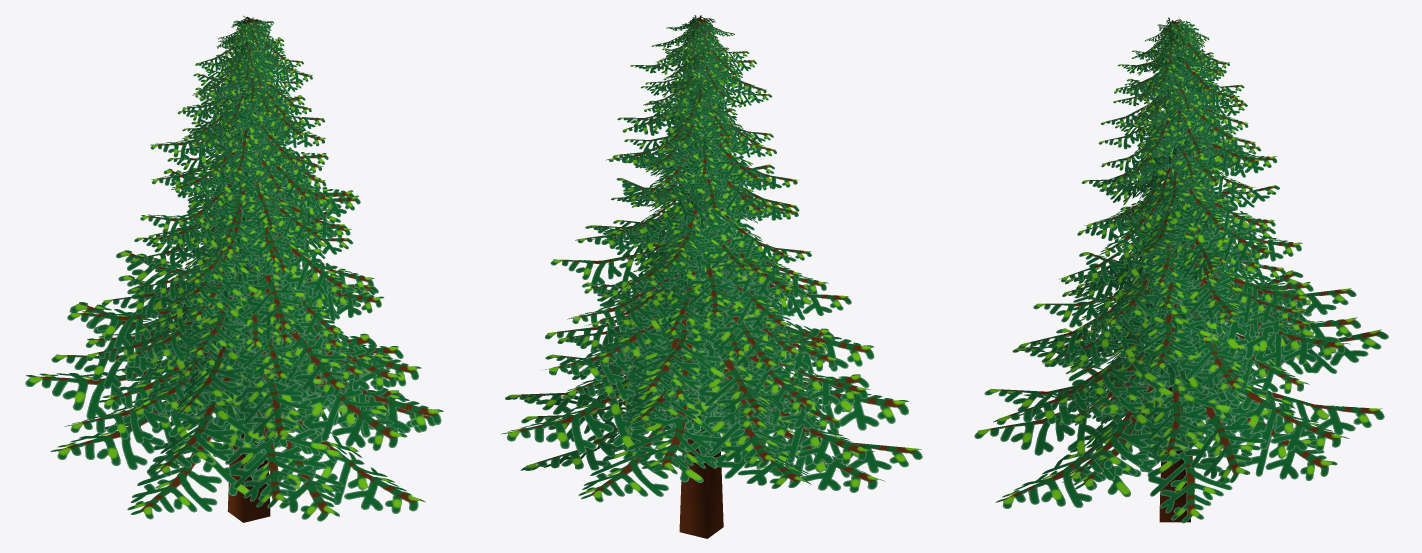
File: pine.fbx
3 renders of one model, left to right at view 1: azimuth 30°, elevation 25°; view 2: azimuth 150°, elevation 25°; view 3: azimuth 270°, elevation 25°, orthographic. The views are drawn at different scales.
Visible parts, largest first — view 1: pineleaves.003, pineleaves.006, pineleaves.093, pineleaves.098, pineleaves.002, pineleaves.092, pineleaves.012, pineleaves.096, pineleaves.102, pineleaves.004, pineleaves.101, pineleaves (+63 smaller); view 2: pineleaves.094, pineleaves.097, pineleaves.007, Cube, pineleaves.103, pineleaves.090, pineleaves.013, pineleaves.108, pineleaves.004, pineleaves, pineleaves.093, pineleaves.096 (+54 smaller); view 3: pineleaves.008, pineleaves.097, pineleaves.091, pineleaves.005, pineleaves.014, pineleaves.002, pineleaves.106, pineleaves.001, pineleaves.113, pineleaves.092, pineleaves.100, pineleaves.109 (+61 smaller).
Part boxes in pixels (x1=…): pineleaves.003: x1=197, y1=386, x2=334, y2=508; pineleaves.006: x1=127, y1=405, x2=304, y2=519; pineleaves.093: x1=149, y1=361, x2=310, y2=476; pineleaves.098: x1=210, y1=353, x2=407, y2=450; pineleaves.002: x1=212, y1=407, x2=425, y2=513; pineleaves.092: x1=182, y1=387, x2=343, y2=521; pineleaves.012: x1=216, y1=315, x2=324, y2=443; pineleaves.096: x1=50, y1=387, x2=267, y2=469; pineleaves.102: x1=174, y1=304, x2=304, y2=416; pineleaves.004: x1=25, y1=360, x2=227, y2=428; pineleaves.101: x1=209, y1=268, x2=349, y2=397; pineleaves: x1=64, y1=367, x2=264, y2=443; pineleaves.094: x1=612, y1=346, x2=770, y2=474; pineleaves.097: x1=500, y1=381, x2=716, y2=453; pineleaves.007: x1=578, y1=396, x2=730, y2=502; Cube: x1=679, y1=19, x2=723, y2=538; pineleaves.103: x1=627, y1=291, x2=753, y2=395; pineleaves.090: x1=649, y1=363, x2=791, y2=468; pineleaves.013: x1=652, y1=328, x2=780, y2=417; pineleaves.108: x1=657, y1=263, x2=780, y2=372; pineleaves.004: x1=636, y1=390, x2=811, y2=488; pineleaves: x1=673, y1=392, x2=874, y2=464; pineleaves.093: x1=714, y1=368, x2=908, y2=435; pineleaves.096: x1=661, y1=398, x2=885, y2=492; pineleaves.008: x1=1062, y1=368, x2=1227, y2=482; pineleaves.097: x1=1138, y1=372, x2=1349, y2=451; pineleaves.091: x1=1124, y1=335, x2=1270, y2=483; pineleaves.005: x1=1113, y1=382, x2=1257, y2=523; pineleaves.014: x1=1132, y1=351, x2=1246, y2=462; pineleaves.002: x1=995, y1=410, x2=1204, y2=508; pineleaves.106: x1=1157, y1=311, x2=1350, y2=368; pineleaves.001: x1=1146, y1=362, x2=1337, y2=480; pineleaves.113: x1=1124, y1=271, x2=1228, y2=372; pineleaves.092: x1=974, y1=397, x2=1157, y2=456; pineleaves.100: x1=1128, y1=299, x2=1247, y2=394; pineleaves.109: x1=1133, y1=246, x2=1244, y2=321.
Size of the model in its own units: 1629 by 2112 by 1712.
Materials: 2 (2 with a texture image).
